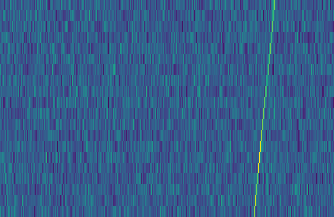signal: (251, 0, 281, 217)
